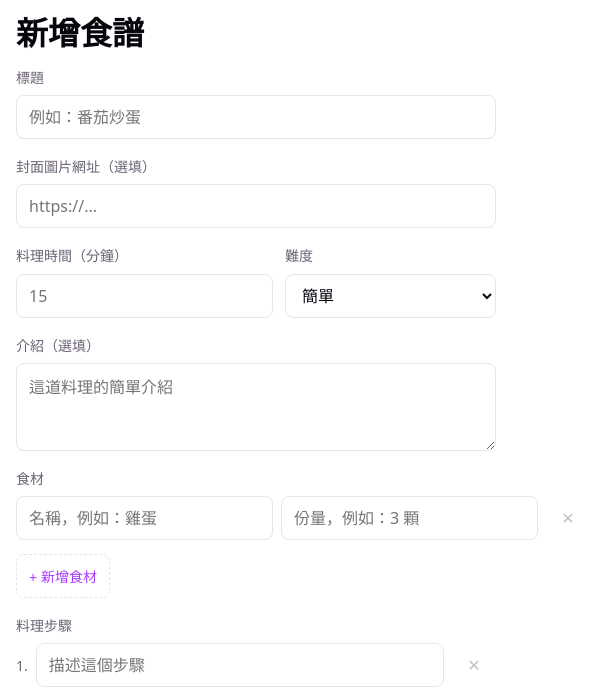
Test: RecipeForm.vue (create mode) › adds and removes ingredient rows, disabling remove when only one is left
Expected: the number of elements with class "repeat-row" is 2, top-left (16, 496), bottom-right (590, 540); top-left (16, 643), bottom-right (496, 687)
Expected: the 1st button with class "remove" is disabled, top-left (546, 496), bottom-right (590, 540)
Click the button with class "add-row" at coordinates (63, 576), box top-left (16, 554), bottom-right (110, 598)
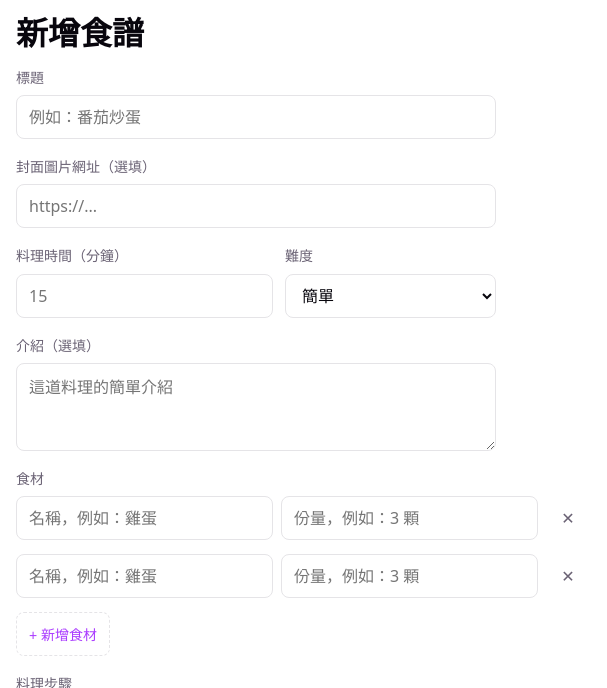
Expected: the number of buttons with class "remove" is 3
Expected: the 1st button with class "remove" is enabled
Expected: the 2nd button with class "remove" is enabled, top-left (546, 554), bottom-right (590, 598)
Click the 1st button with class "remove" at coordinates (568, 518), box top-left (546, 496), bottom-right (590, 540)
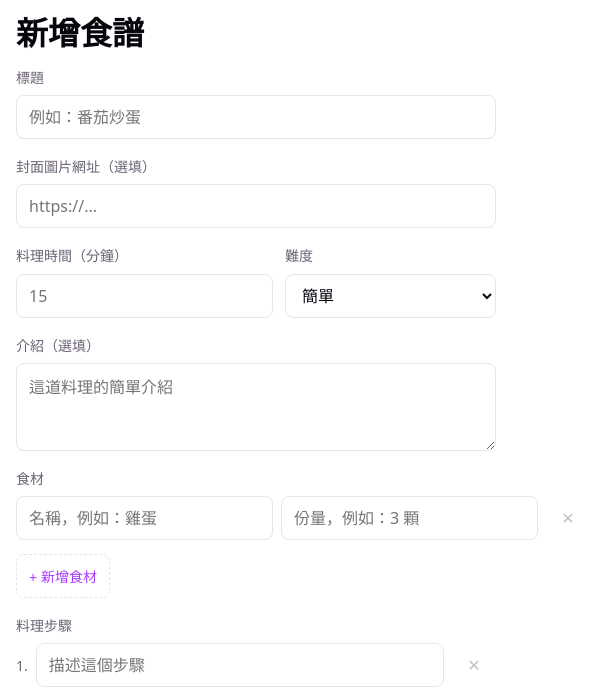
Expected: the 1st button with class "remove" is disabled, top-left (546, 496), bottom-right (590, 540)
